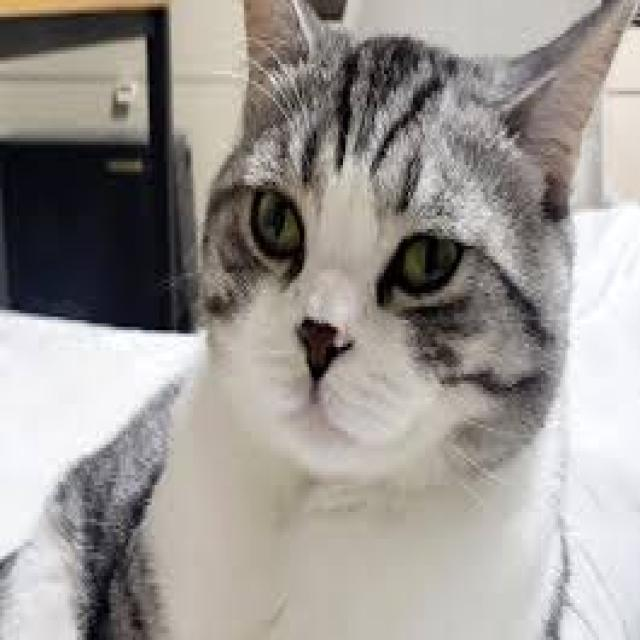cat: (43, 0, 637, 640)
